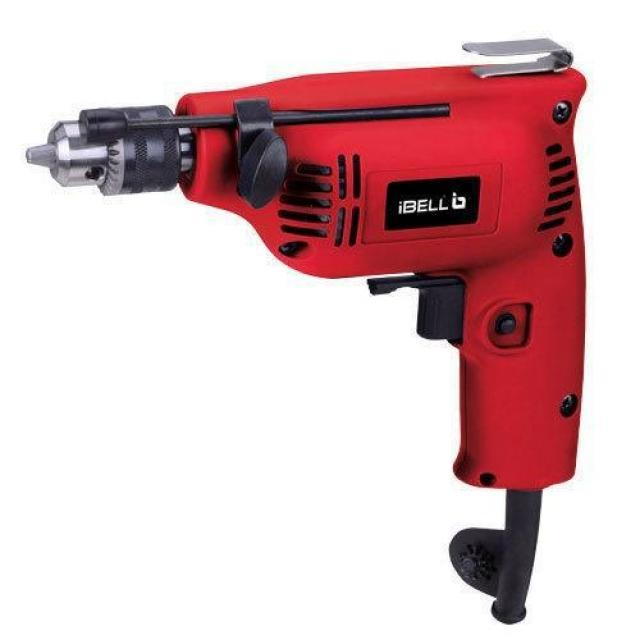drill: (24, 38, 594, 624)
